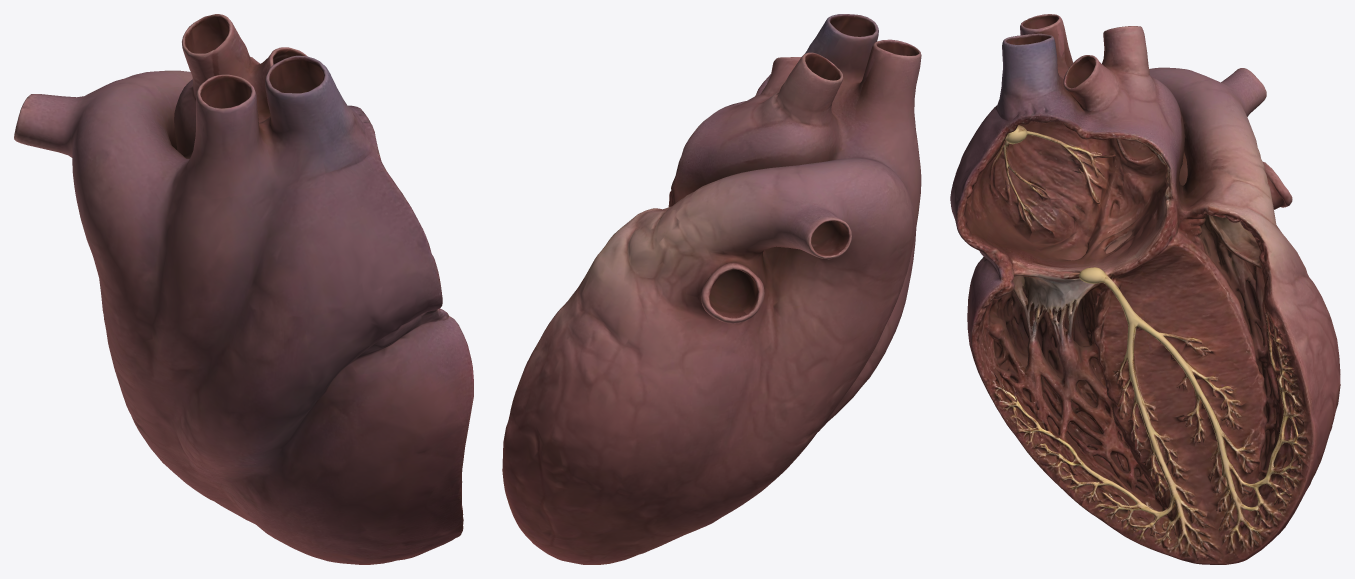
File: cardiac-conduction.glb
The picture shows the model from 3 angles, left to right: view 1: azimuth 30°, elevation 25°; view 2: azimuth 150°, elevation 25°; view 3: azimuth 270°, elevation 25°; orthographic projection. The views are drawn at different scales.
Visible parts, largest first — view 1: tripo_node_bb6e5060-c02e-40f0-bb90-a4f7a5a7a5f6; view 2: tripo_node_bb6e5060-c02e-40f0-bb90-a4f7a5a7a5f6; view 3: tripo_node_bb6e5060-c02e-40f0-bb90-a4f7a5a7a5f6.
Part boxes in pixels (x1,y1,x2,y2): tripo_node_bb6e5060-c02e-40f0-bb90-a4f7a5a7a5f6: [14, 14, 473, 564]; tripo_node_bb6e5060-c02e-40f0-bb90-a4f7a5a7a5f6: [502, 14, 921, 564]; tripo_node_bb6e5060-c02e-40f0-bb90-a4f7a5a7a5f6: [950, 14, 1340, 564].
Size of the model in its own units: 0.6427 by 0.9995 by 0.7714.
1 material, 1 textured.
